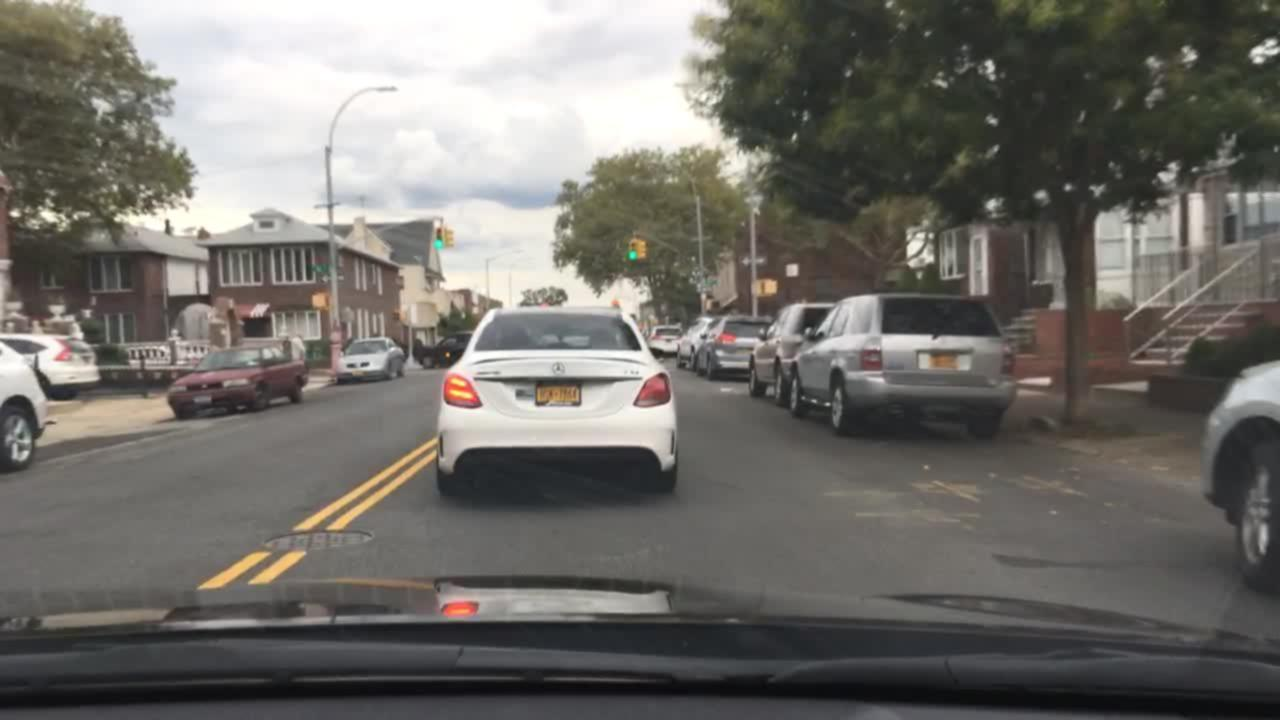Mercedes: (545, 355, 573, 385)
